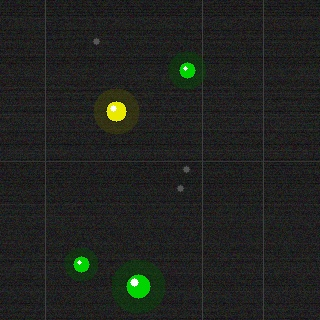green_normal: (124, 272, 152, 300), (177, 60, 197, 80), (71, 254, 91, 274)
yellow_warning: (104, 99, 128, 123)
